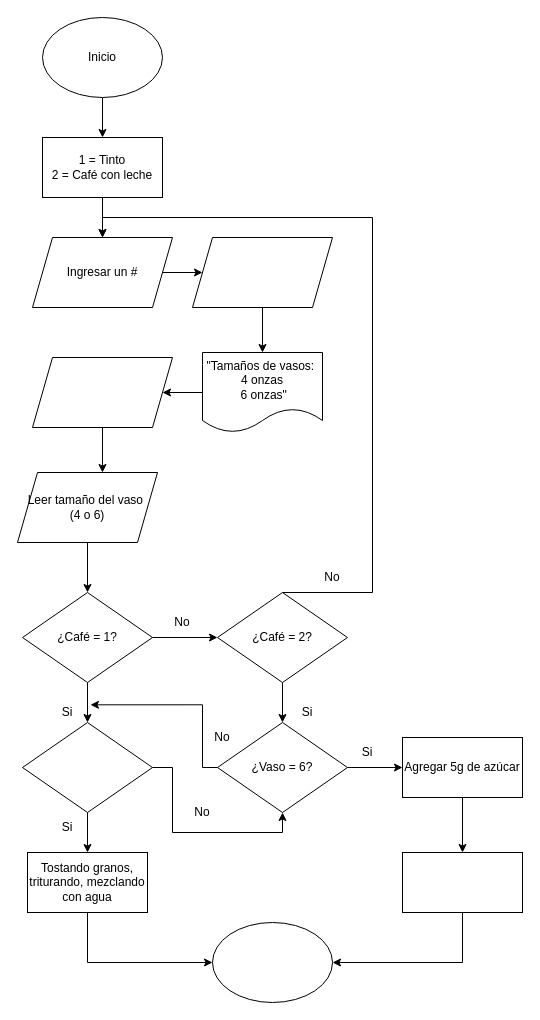
Some shapes in this 540 by 1020 pixel diagram are drawn without their labels. The shapes that lost their labels are listed below. From the top down, each one's centre as x and y in pixels, then its label:
At (262,272): "Leer la entrada del usuario para el tipo de café (1 o 2).".
At (102,392): "Ingresar (4 o 6)".
At (87,767): "¿Vaso = 4?".
At (462,882): "Tostando granos, triturando, mezclando con leche.".
At (272,962): "Fin".
